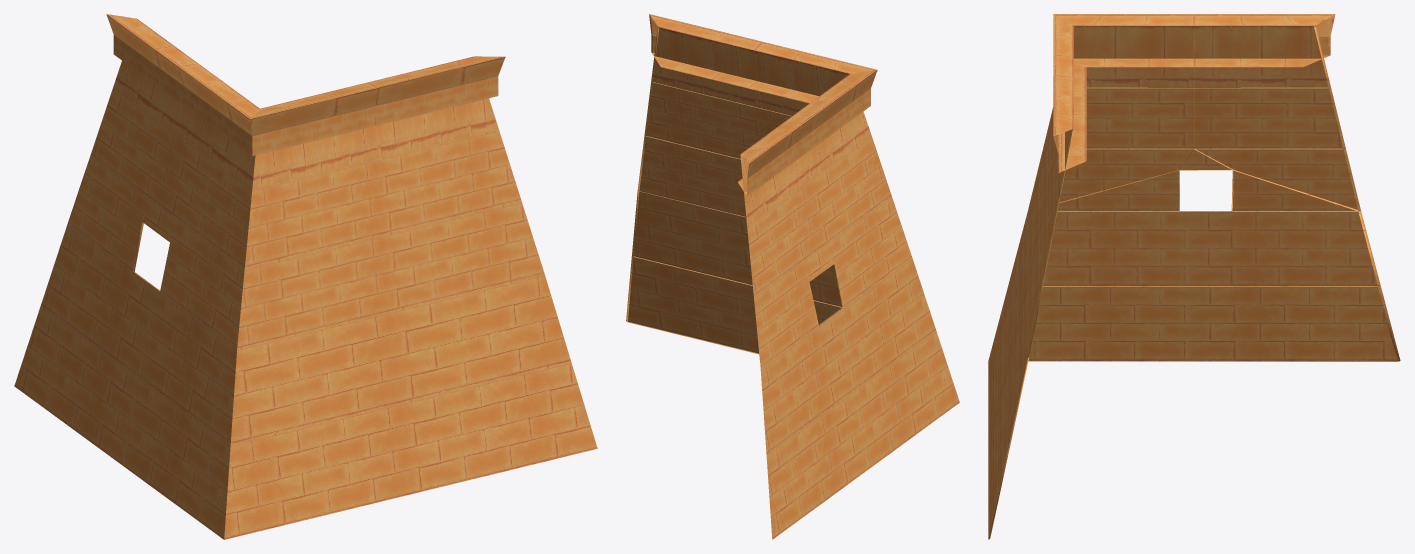
The model's file is temple-floor04-cut-001.glb.
3 renders of one model, left to right at view 1: azimuth 30°, elevation 25°; view 2: azimuth 150°, elevation 25°; view 3: azimuth 270°, elevation 25°, orthographic. The views are drawn at different scales.
Parts seen in each view (by area): view 1: TempleFloor04_Cut.001; view 2: TempleFloor04_Cut.001; view 3: TempleFloor04_Cut.001.
Part boxes in pixels (x1=…): TempleFloor04_Cut.001: x1=14, y1=14, x2=597, y2=539; TempleFloor04_Cut.001: x1=626, y1=14, x2=959, y2=539; TempleFloor04_Cut.001: x1=988, y1=14, x2=1400, y2=539.
Size of the model in its own units: 37.11 by 36.28 by 36.12.
Materials: 2 (2 with a texture image).
